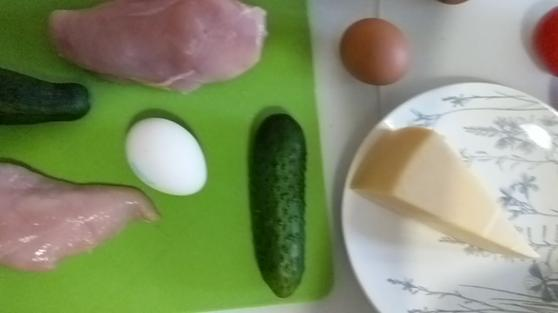cheese: (350, 126, 543, 266)
chicken_fillet: (48, 1, 266, 92), (1, 161, 162, 272)
cucumber: (248, 110, 310, 299), (2, 66, 90, 128)
egg: (127, 116, 207, 195), (337, 19, 412, 85)
